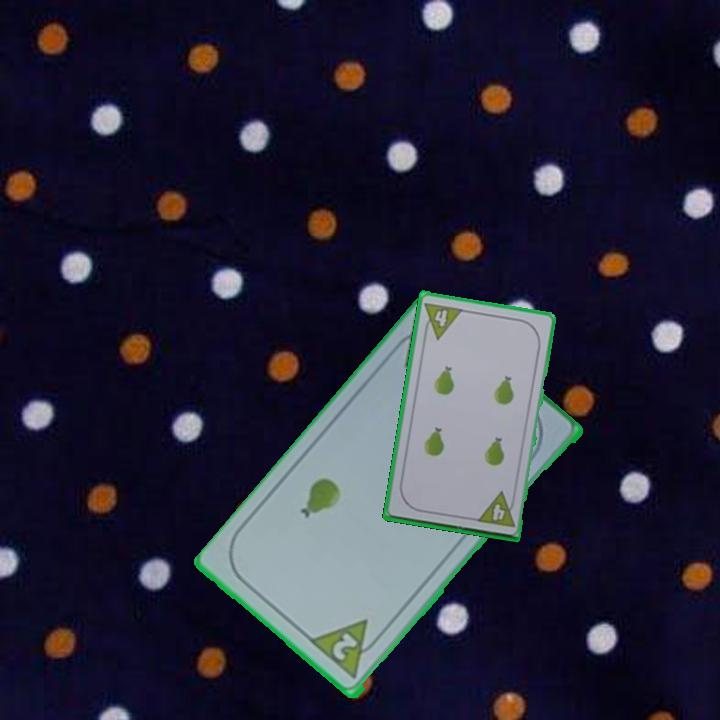2p: (328, 629, 361, 664)
4p: (419, 299, 466, 342), (473, 489, 518, 530)
